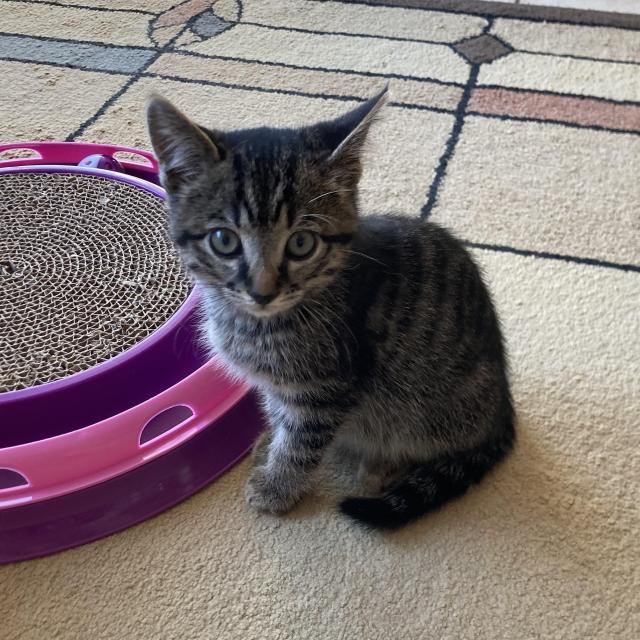american_shorthair_cat: (144, 79, 393, 323)
